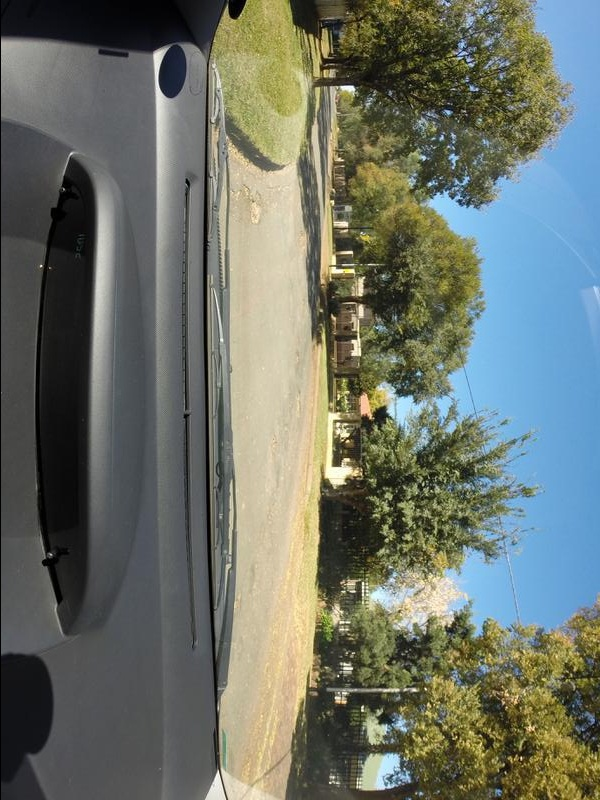pothole: (234, 184, 266, 228), (266, 431, 277, 463), (234, 592, 248, 613), (292, 352, 303, 374), (297, 389, 305, 416)
